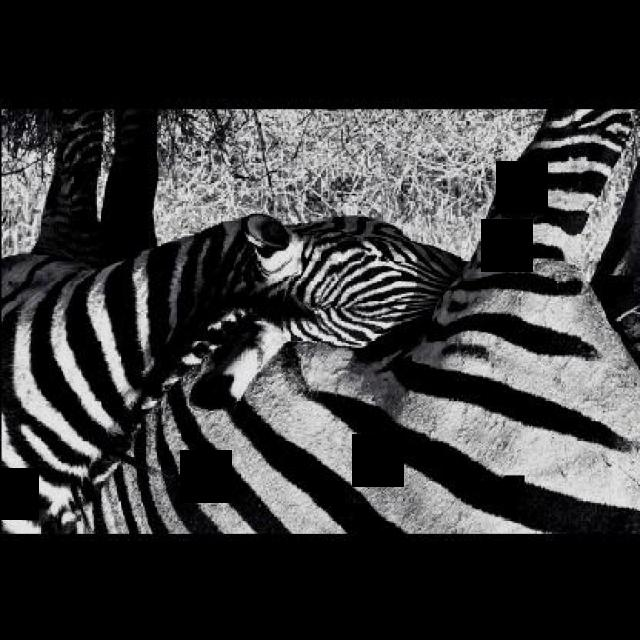unauthorized: (0, 209, 468, 534), (166, 212, 469, 410)
